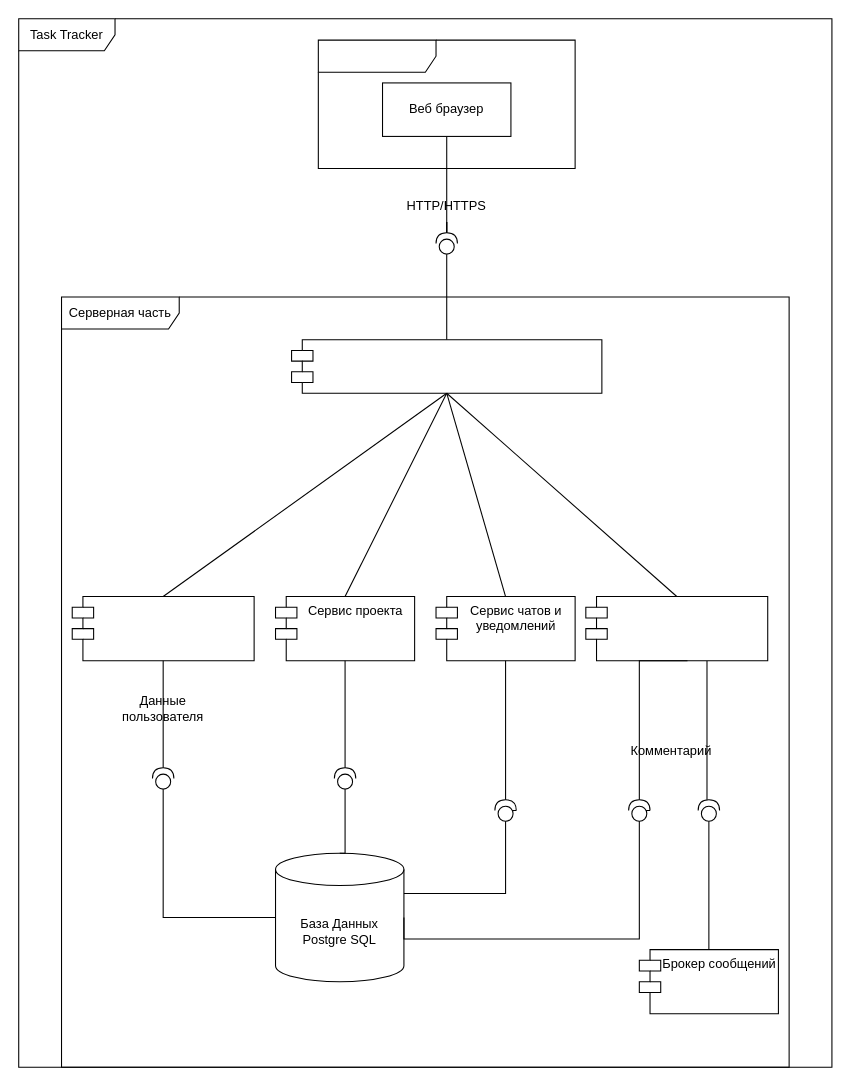
This 851x1086 diagram has some shape labels left out. Each missing label, with the centre of its shape:
"API Gateaway/Rest Controller" goes at point (446, 366).
"Клиентская часть" goes at point (446, 104).
"Сервис аунтификации и пользователей" goes at point (162, 628).
"Сервис комментариев" goes at point (676, 628).
